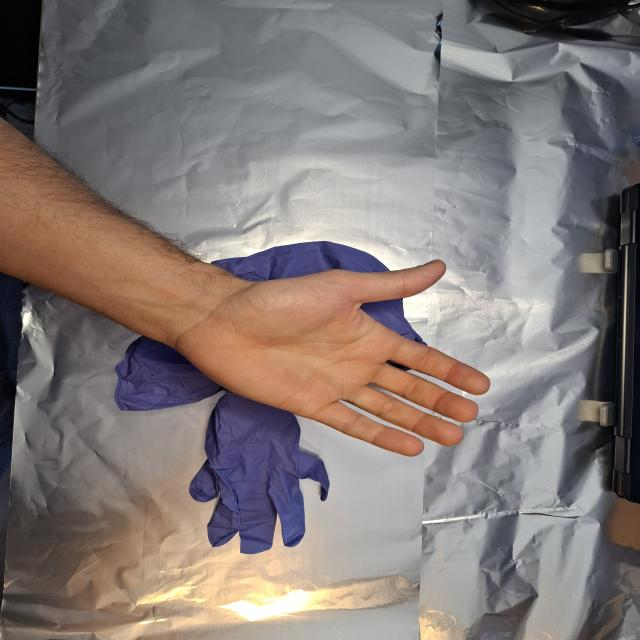glove_off: (170, 257, 493, 458)
